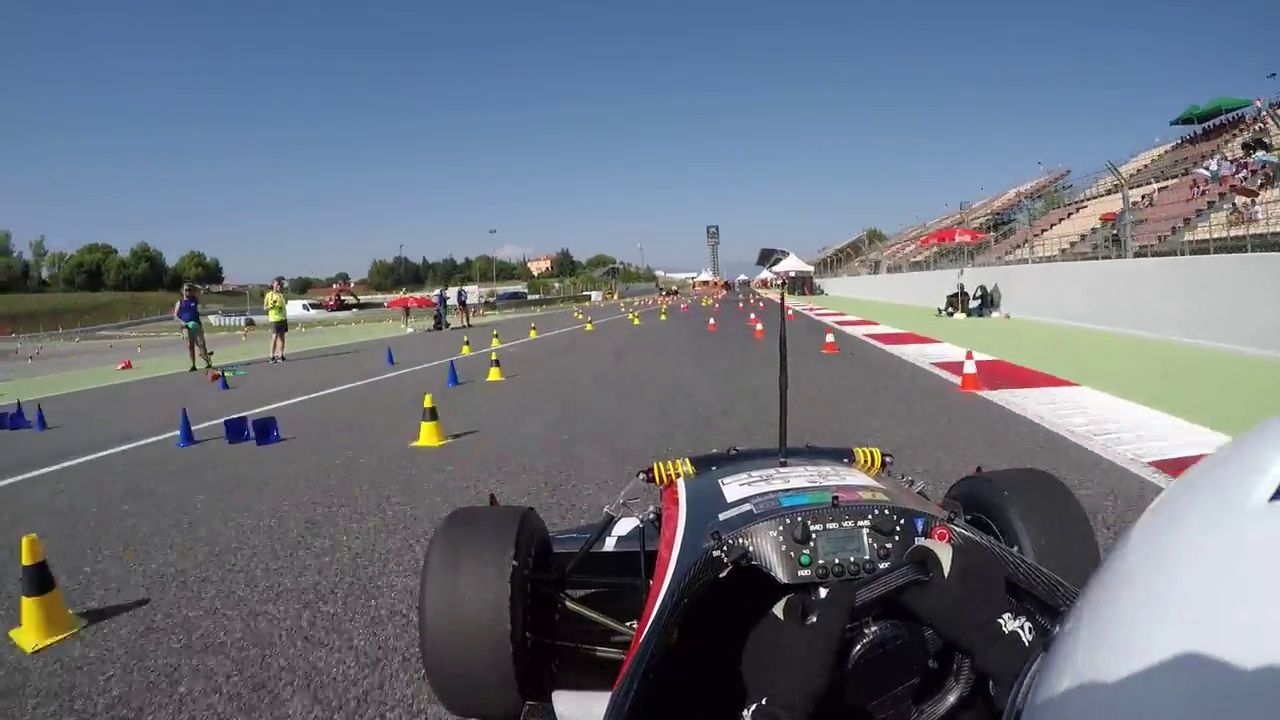Cone: (9, 531, 91, 656), (411, 391, 448, 449), (956, 348, 985, 392), (175, 406, 198, 448), (444, 356, 466, 389), (818, 325, 841, 354), (486, 352, 508, 382)
